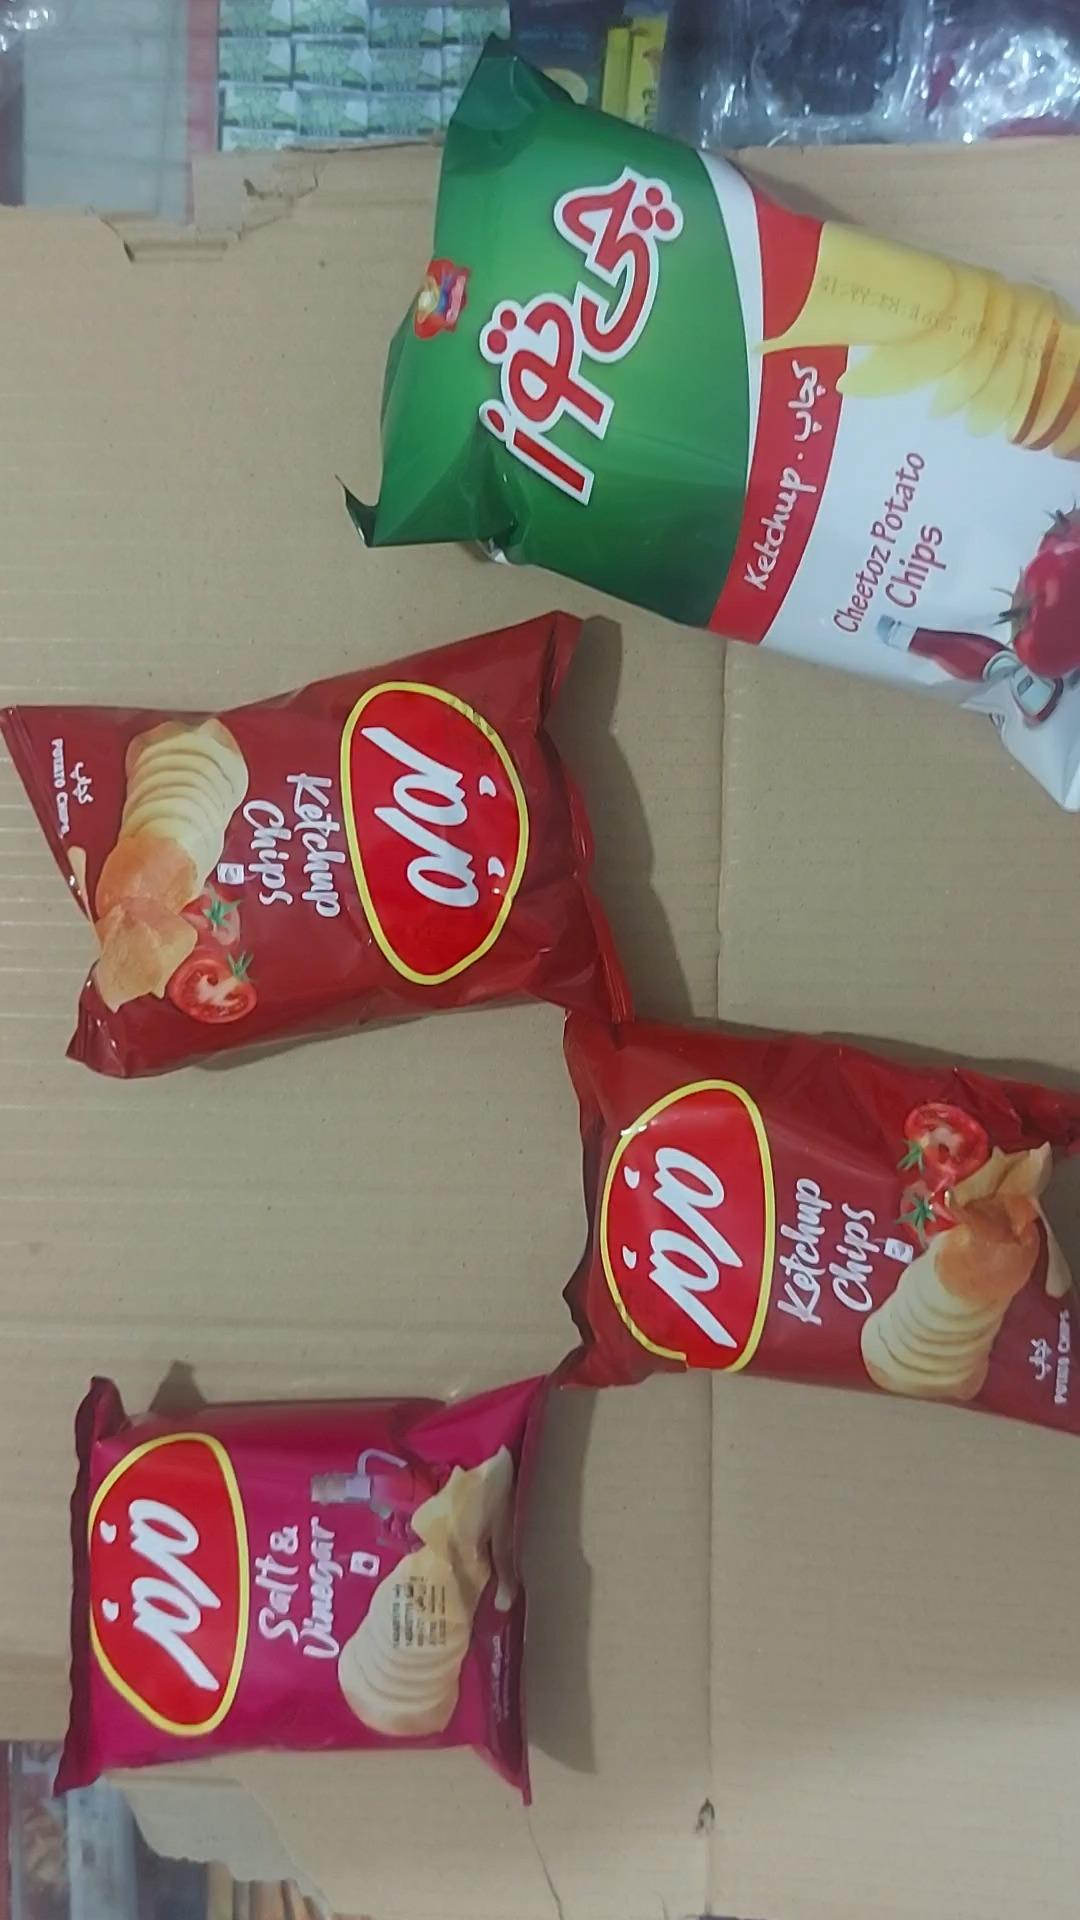Cheetoz ketchup chips: (342, 38, 1079, 815)
Maz Maz ketchup chips: (0, 613, 634, 1081), (550, 1014, 1079, 1439)
Maz Maz vinegar chips: (53, 1375, 549, 1807)
